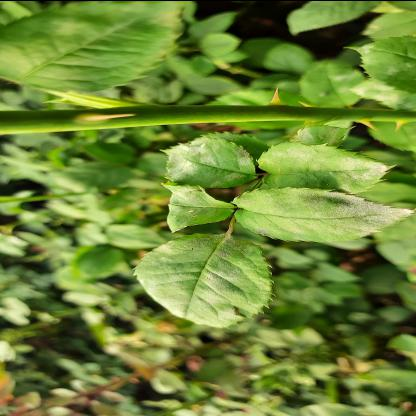powdery-mildew: (131, 233, 267, 328), (233, 187, 410, 238), (250, 142, 398, 194), (153, 136, 249, 188)
